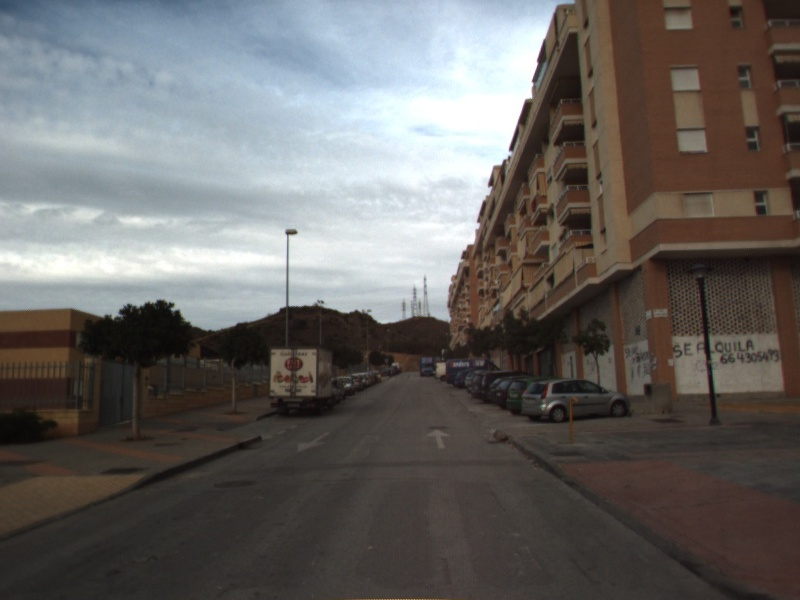STRAIGHT: (424, 427, 452, 450)
